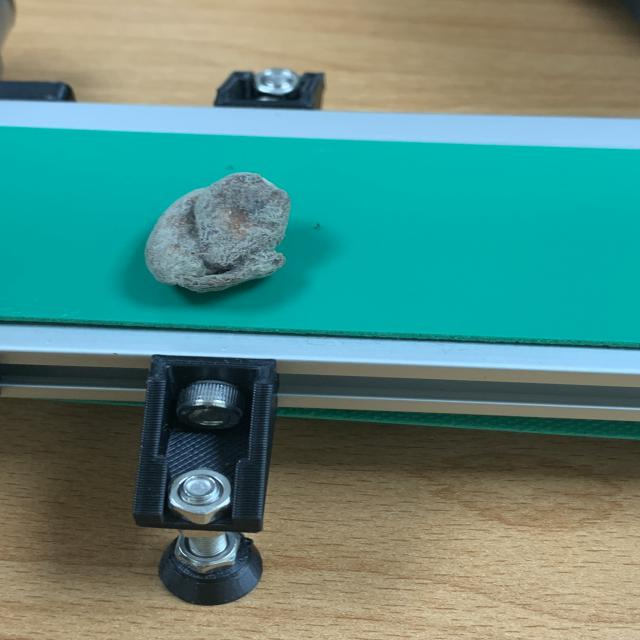Agglomerated_cocoabeans: (92, 153, 356, 324)
